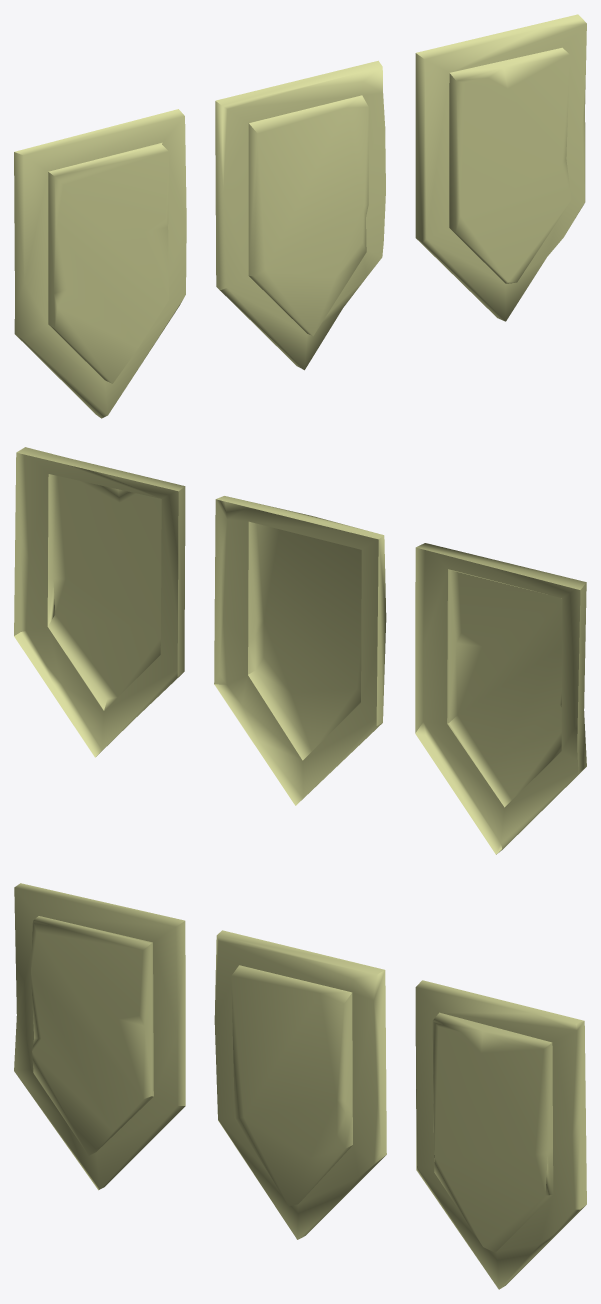
Rendered from Ornament_shield_1d.fbx.
The picture shows the model from 3 angles, top to bottom: view 1: azimuth 30°, elevation 25°; view 2: azimuth 150°, elevation 25°; view 3: azimuth 330°, elevation 25°; orthographic projection.
Parts seen in each view (by area): view 1: Ornament_shield_1d; view 2: Ornament_shield_1d; view 3: Ornament_shield_1d.
Part boxes in pixels (box(x1,y1,x2,y2)): Ornament_shield_1d: box(14, 14, 586, 418); Ornament_shield_1d: box(14, 447, 586, 854); Ornament_shield_1d: box(14, 883, 586, 1289).
Bounding box in the file's own units: 81.62 × 39.65 × 4.43.
